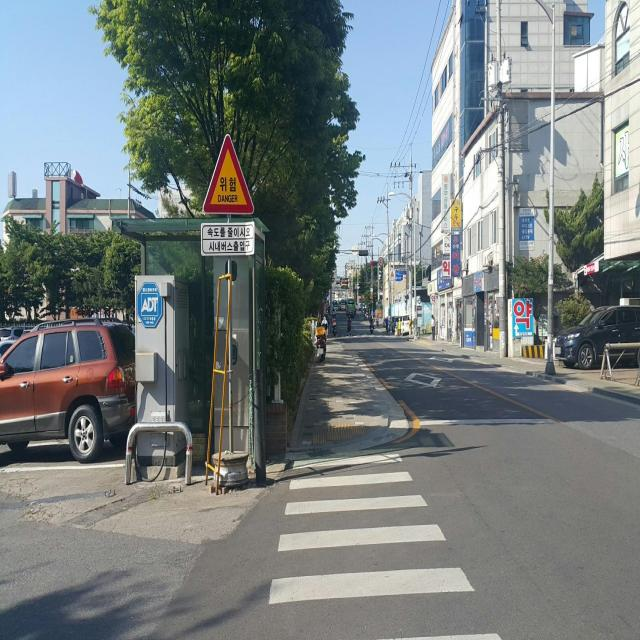횡단보도: (268, 450, 504, 640)
